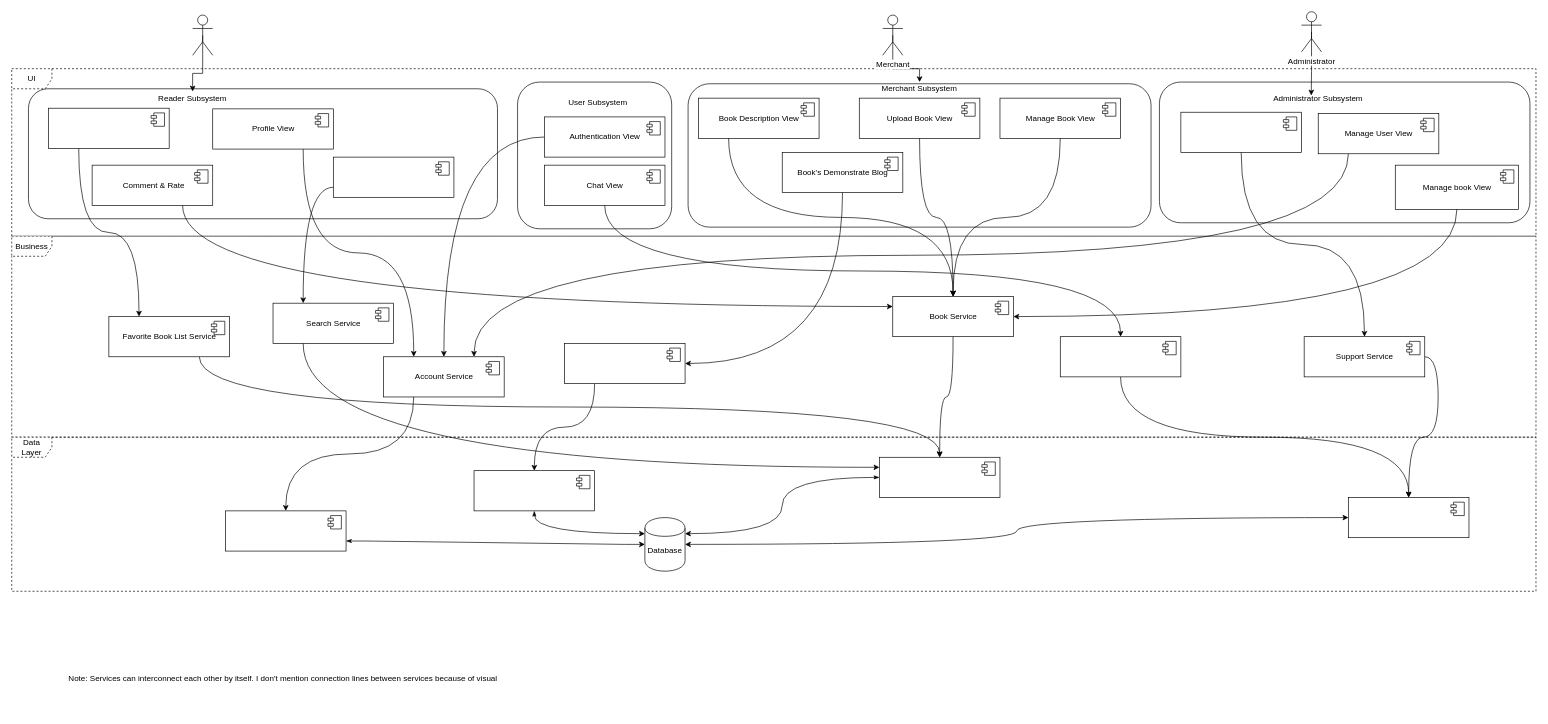
The diagram is 1548 pixels wide and 724 high, and some of its shapes have lost their labels. Each missing label, with the centre of its shape:
Account Data Access: point 285,530
Blog Data Access: point 534,490
Blog Service: point 624,363
Book Lib Data Access: point 939,477
Contact Data Access: point 1408,517
Contact Service: point 1120,356
Favorite Book List: point 108,128
Reader: point 202,34
Search: point 393,176
Support User View: point 1240,132
